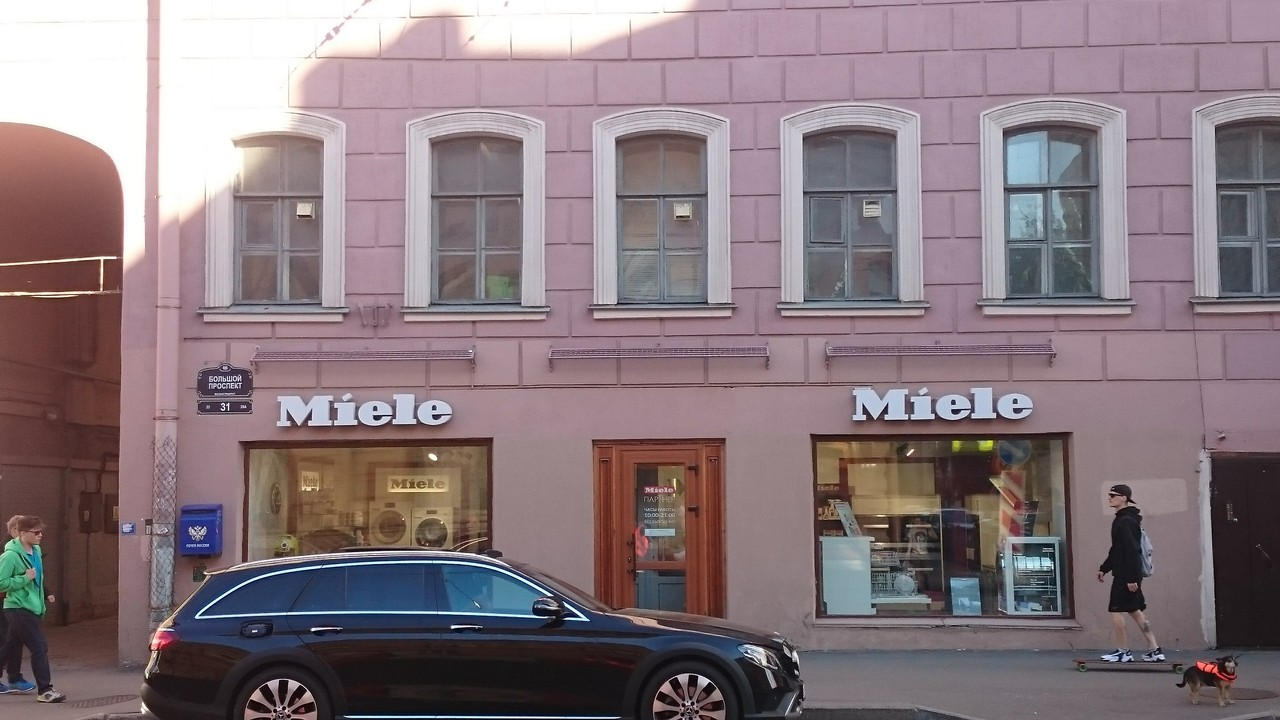door: (617, 446, 698, 614)
signboard: (852, 385, 1035, 422), (278, 394, 452, 427)
window: (817, 429, 1071, 622), (244, 443, 492, 552), (618, 128, 710, 307), (430, 132, 524, 306), (803, 130, 896, 301), (1001, 128, 1097, 292), (232, 137, 325, 302), (1221, 127, 1280, 298)
